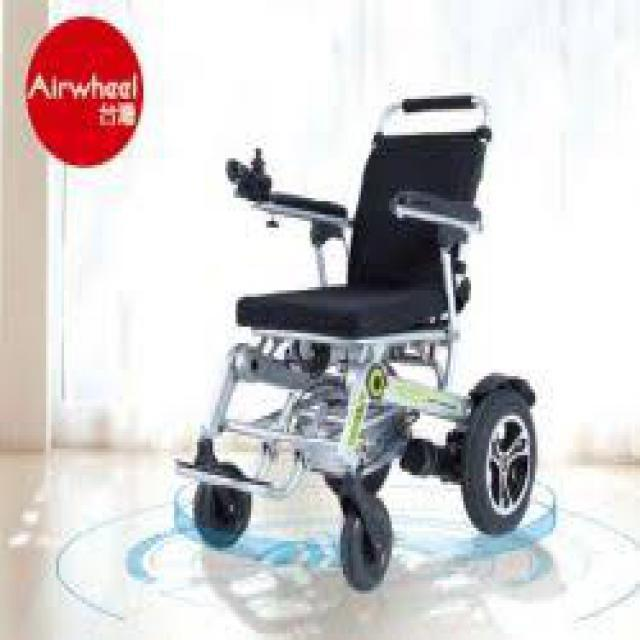wheelchair: (169, 72, 558, 610)
